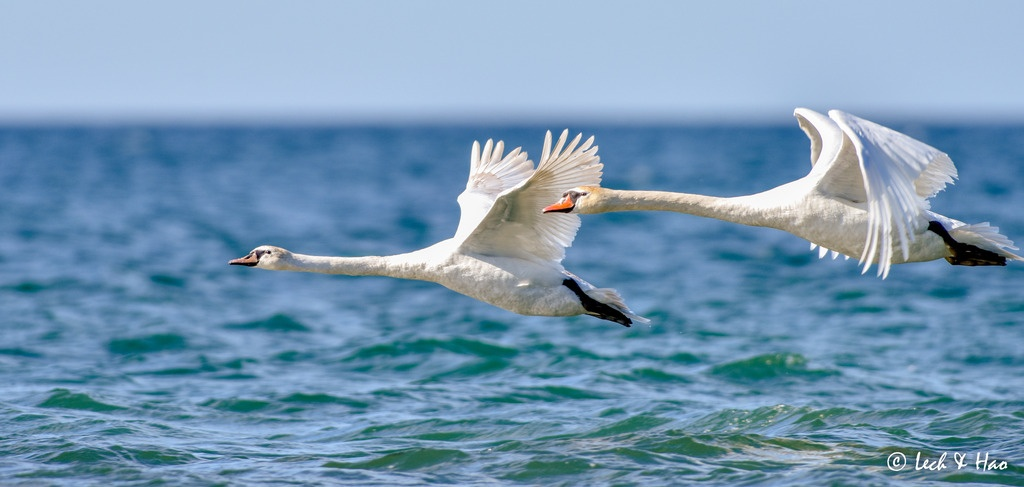bird: (212, 125, 655, 336), (538, 101, 1024, 269)
